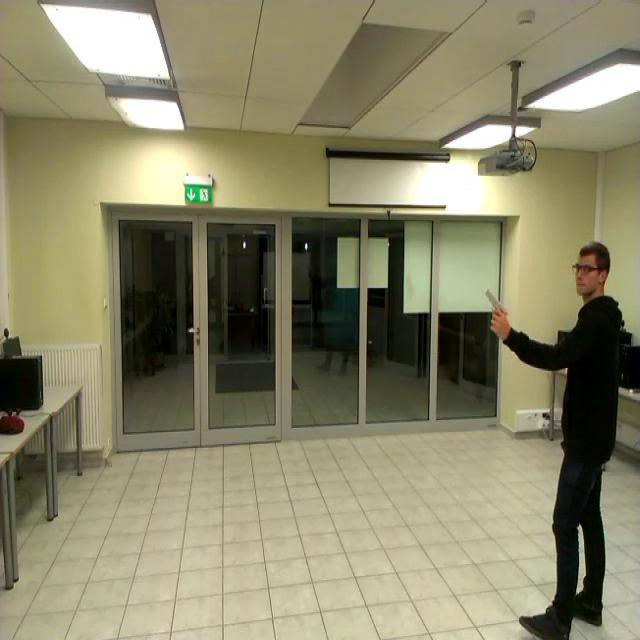weapon: (482, 289, 510, 335)
